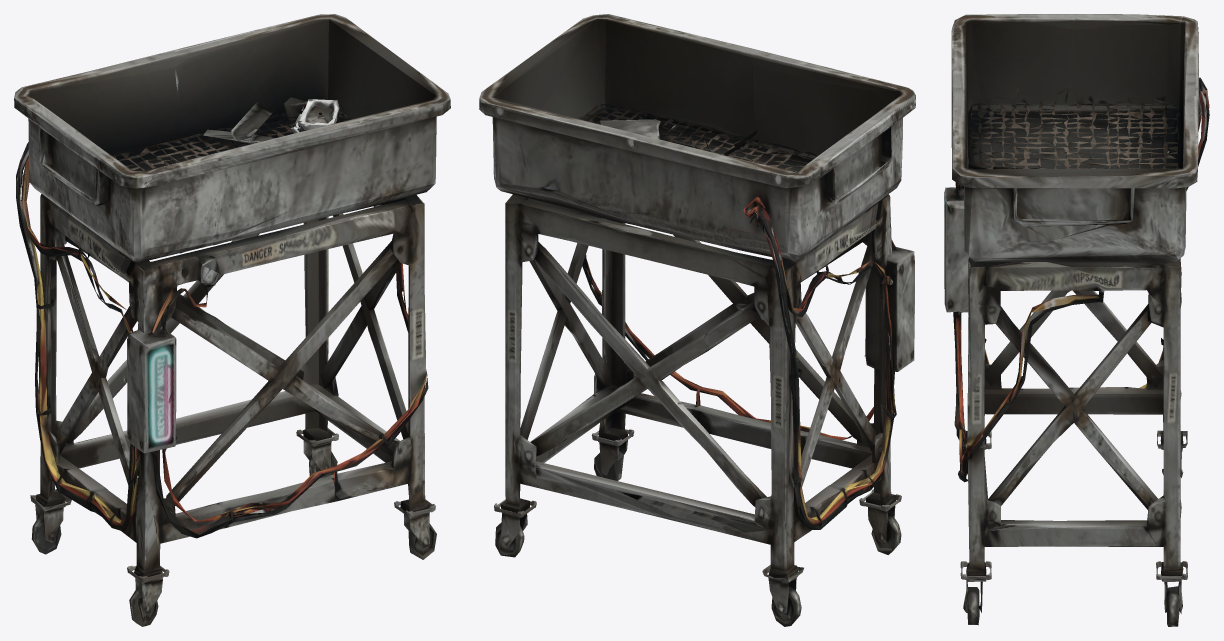
Rendered from prop_recycle_tray.glb.
3 renders of one model, left to right at view 1: azimuth 30°, elevation 25°; view 2: azimuth 150°, elevation 25°; view 3: azimuth 270°, elevation 25°, orthographic.
Parts seen in each view (by area): view 1: world; view 2: world; view 3: world.
Boxes of the visible parts, x1,y1,x2,y2 form: world: (14,14,450,626); world: (479,14,915,626); world: (944,14,1209,626).
Size of the model in its own units: 0.5999 by 0.7991 by 0.4138.
1 material, 1 textured.
